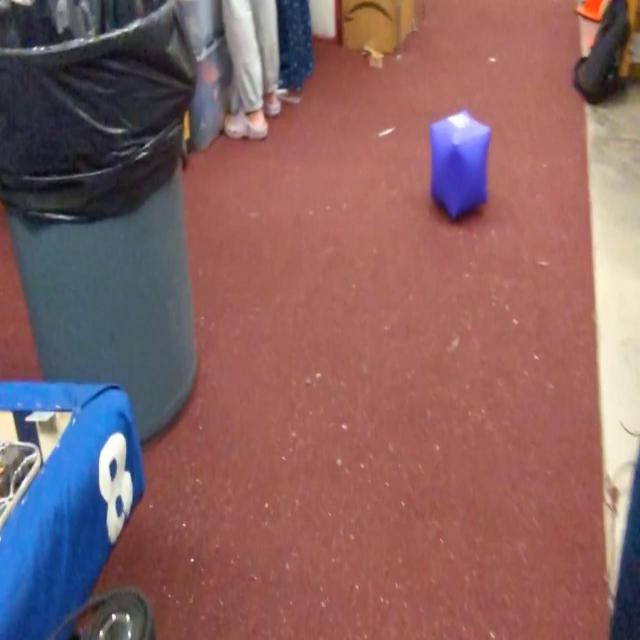frc_cube: (430, 112, 490, 228)
